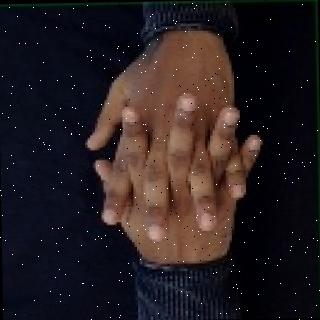W: (76, 34, 278, 264)
